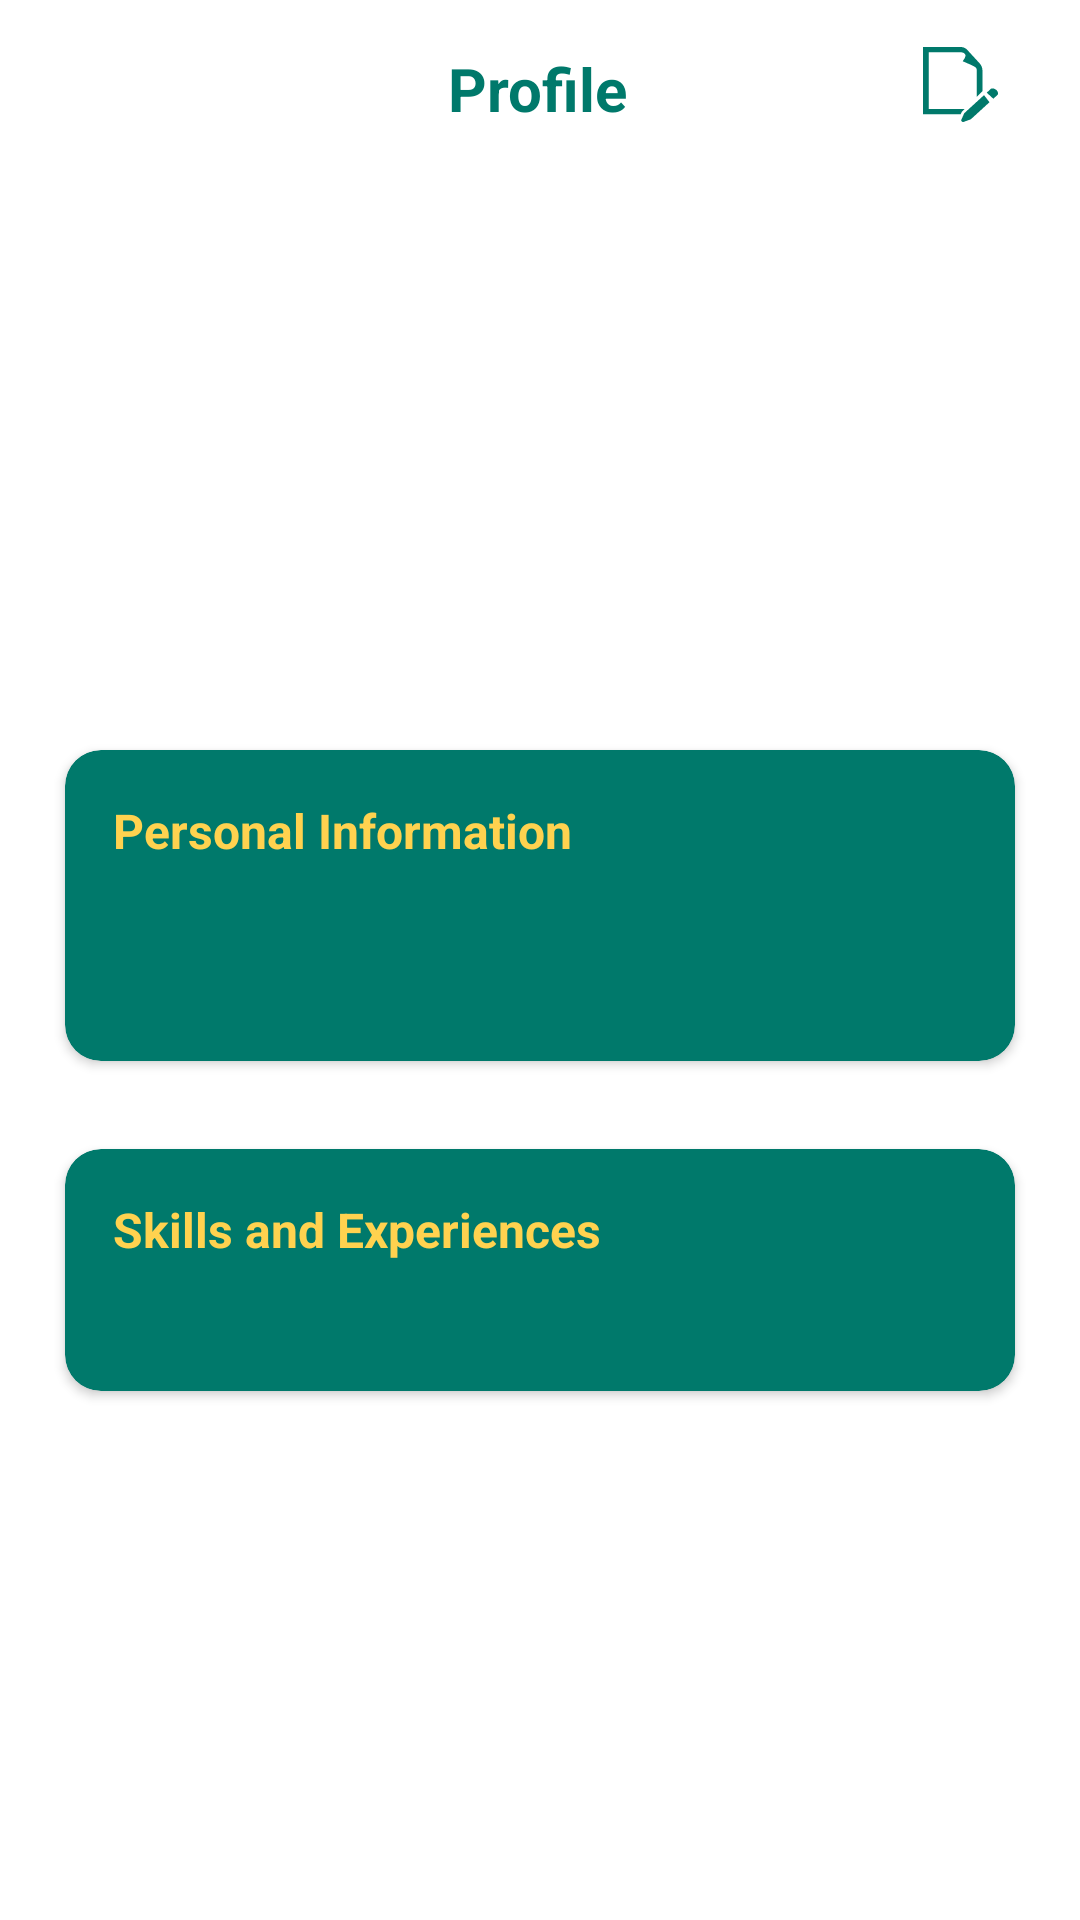

Icon click points for this 1080 × 1920 phone screenshot, format (x,y):
edit: (960,84)
